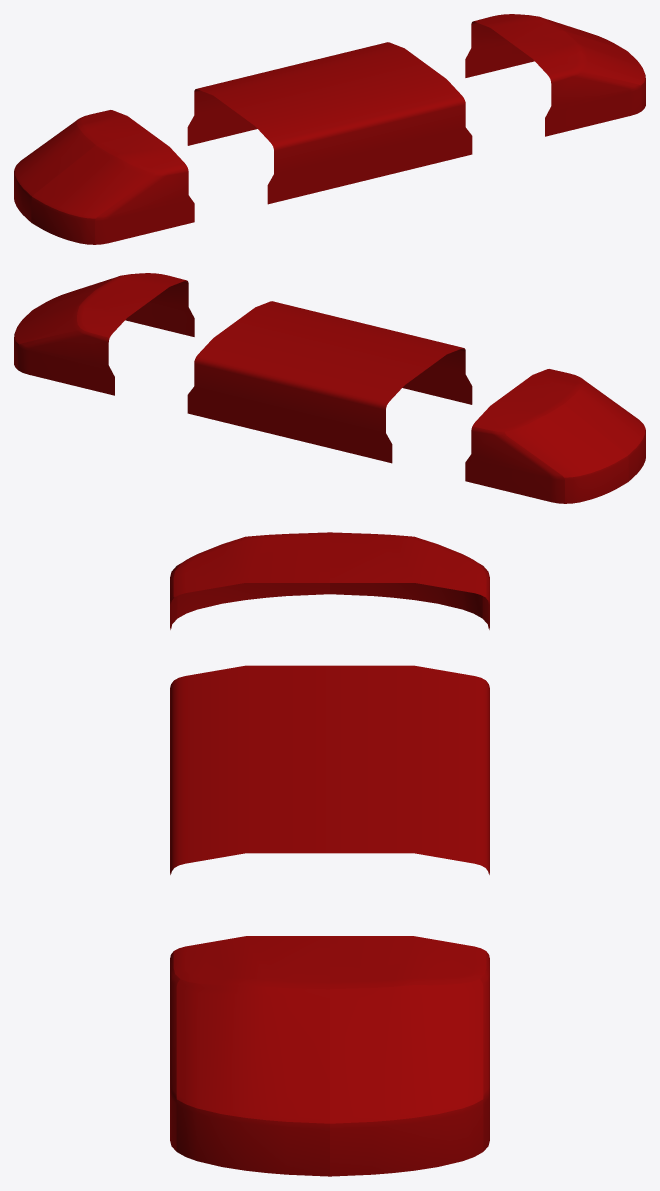
The model's file is SM_Tram_Glass.FBX.
The picture shows the model from 3 angles, top to bottom: view 1: azimuth 30°, elevation 25°; view 2: azimuth 150°, elevation 25°; view 3: azimuth 270°, elevation 25°; orthographic projection. The views are drawn at different scales.
Visible parts, largest first — view 1: glass; view 2: glass; view 3: glass.
Boxes of the visible parts, box(x1,y1,x2,y2) form: glass: box(14, 14, 645, 244); glass: box(14, 273, 645, 503); glass: box(170, 532, 489, 1176).
Size of the model in its own units: 2043 by 206 by 474.
